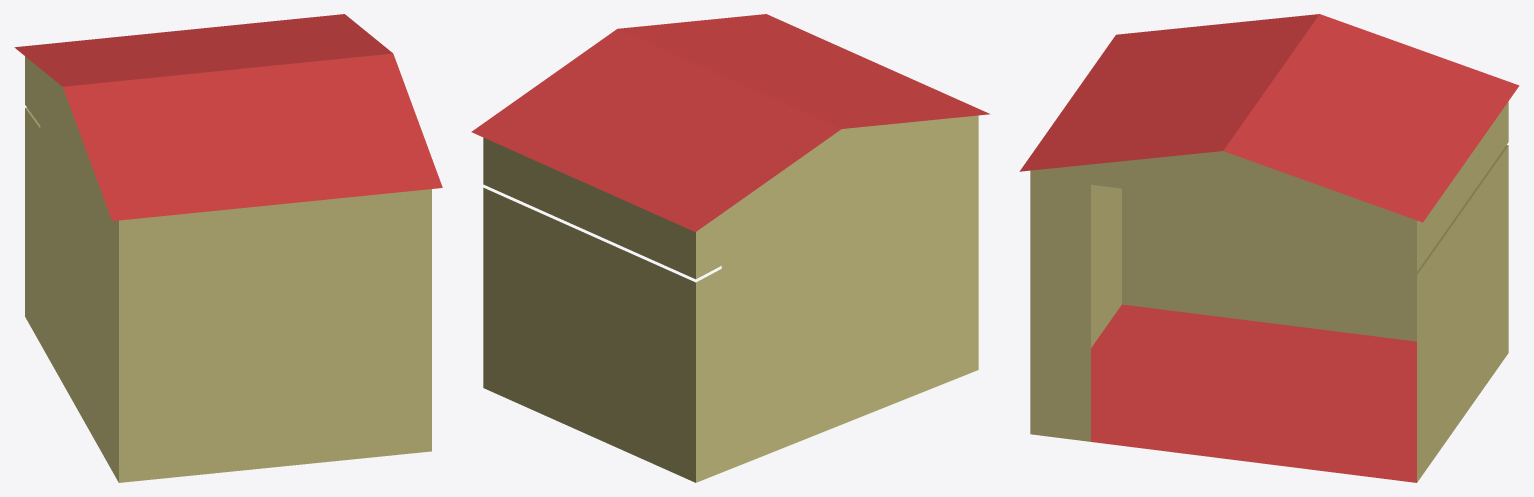
The picture shows the model from 3 angles, left to right: view 1: azimuth 30°, elevation 25°; view 2: azimuth 150°, elevation 25°; view 3: azimuth 270°, elevation 25°; orthographic projection. The views are drawn at different scales.
Size of the model in its own units: 12.49 by 14.05 by 9.65.
